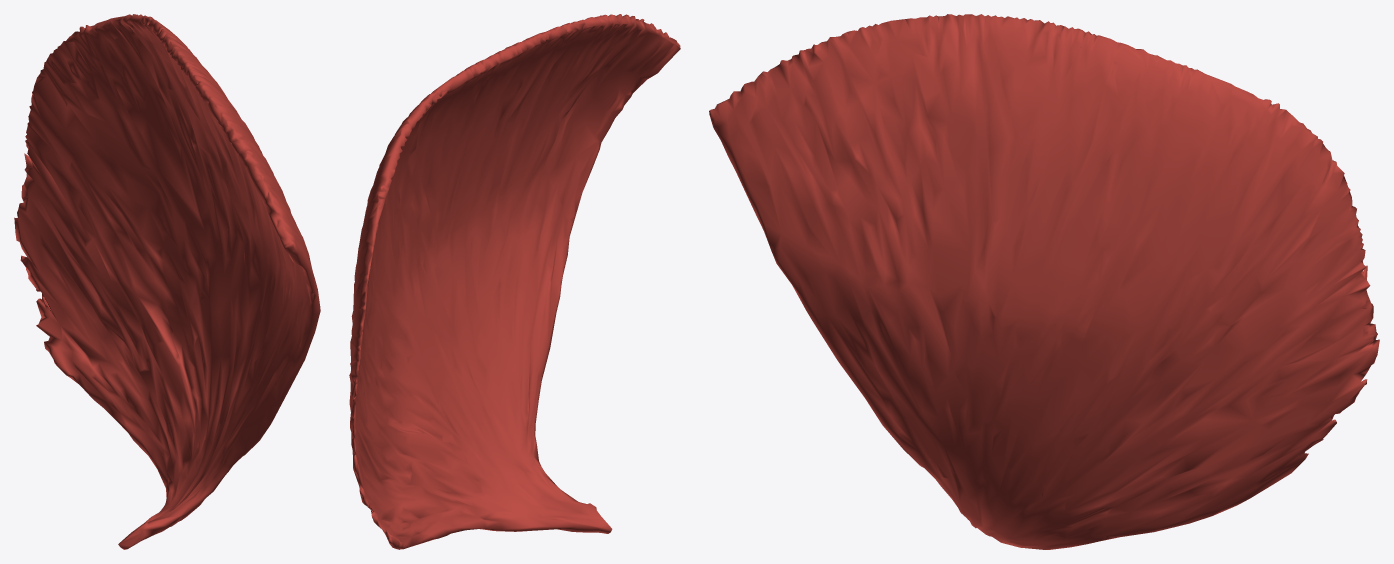
Rendered from musculos-temporoparietalis-muscle-l.glb.
The picture shows the model from 3 angles, left to right: view 1: azimuth 30°, elevation 25°; view 2: azimuth 150°, elevation 25°; view 3: azimuth 270°, elevation 25°; orthographic projection. The views are drawn at different scales.
Parts seen in each view (by area): view 1: Temporoparietalis muscle.l; view 2: Temporoparietalis muscle.l; view 3: Temporoparietalis muscle.l.
Boxes of the visible parts, left/top/right/bottom form: Temporoparietalis muscle.l: left=14, top=14, right=320, bottom=549; Temporoparietalis muscle.l: left=349, top=14, right=680, bottom=549; Temporoparietalis muscle.l: left=709, top=14, right=1379, bottom=549.
Size of the model in its own units: 0.0382 by 0.1029 by 0.1166.
